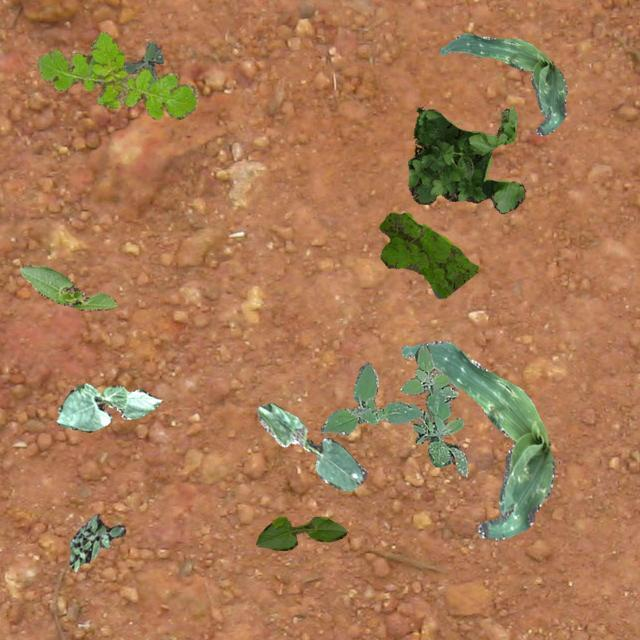crop: (399, 340, 554, 540), (438, 32, 566, 134), (256, 402, 366, 489), (56, 382, 160, 431), (19, 264, 115, 310), (256, 516, 346, 550)
weed: (320, 342, 468, 476), (36, 30, 198, 119), (406, 105, 524, 213), (378, 212, 478, 298), (68, 512, 124, 570), (120, 41, 162, 82)
